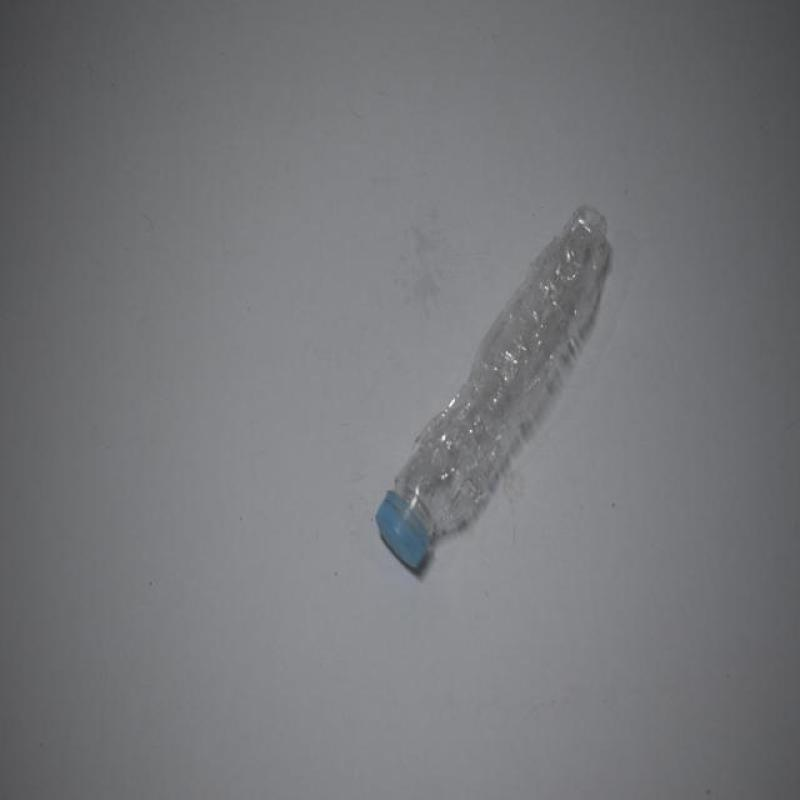botella: (375, 203, 610, 576)
